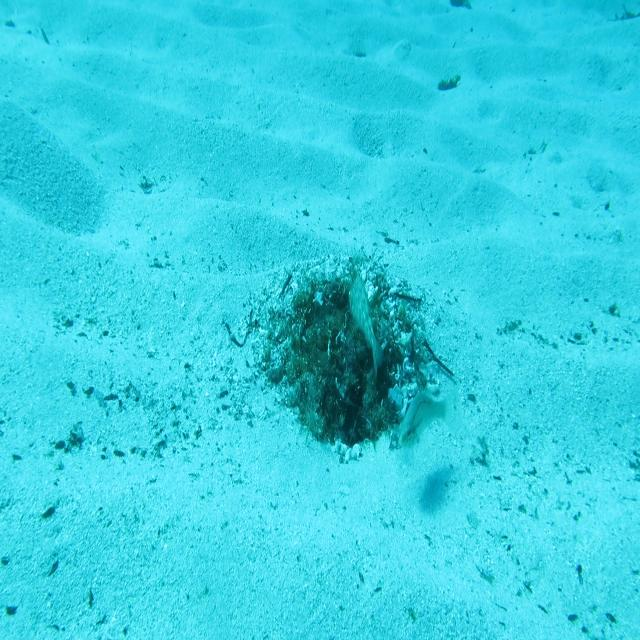MAN: (348, 269, 387, 378)
core_nest: (318, 294, 364, 348)
female: (395, 386, 462, 456)
nest: (246, 242, 452, 476)
vegetation: (434, 73, 462, 94)
